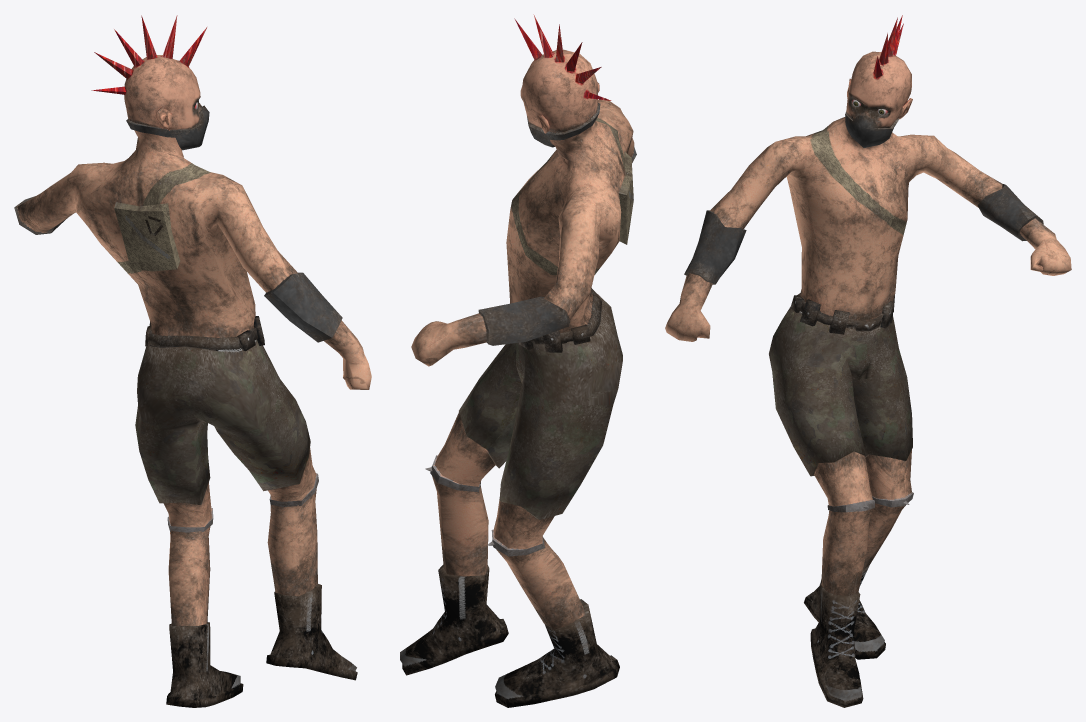
File: Anim_ataque_f1_npc2.0026.obj
The picture shows the model from 3 angles, left to right: view 1: azimuth 30°, elevation 25°; view 2: azimuth 150°, elevation 25°; view 3: azimuth 270°, elevation 25°; orthographic projection. The views are drawn at different scales.
Visible parts, largest first — view 1: polySurface1; view 2: polySurface1; view 3: polySurface1.
Part boxes in pixels (box(x1,y1,x2,y2)): polySurface1: box(14, 15, 371, 707); polySurface1: box(400, 14, 636, 707); polySurface1: box(665, 15, 1071, 707).
Size of the model in its own units: 3.82 by 9.96 by 5.99.
